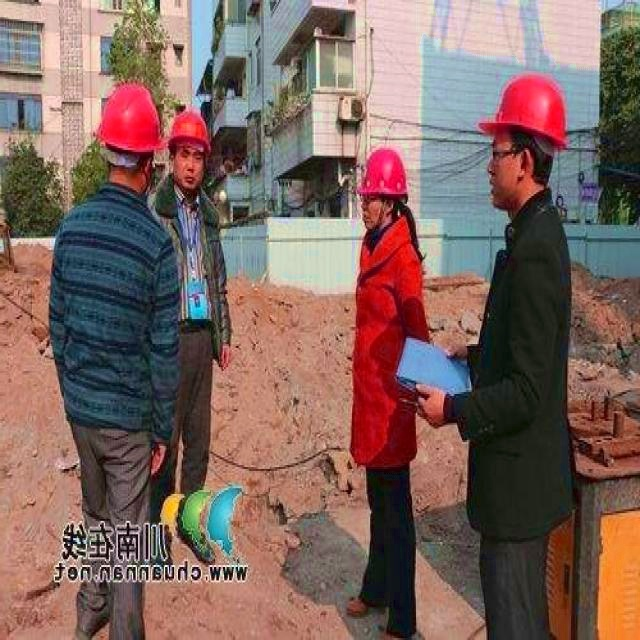Con_Casco: (490, 72, 566, 198), (357, 148, 407, 236)
Sin_Chaleco: (58, 200, 171, 425)
